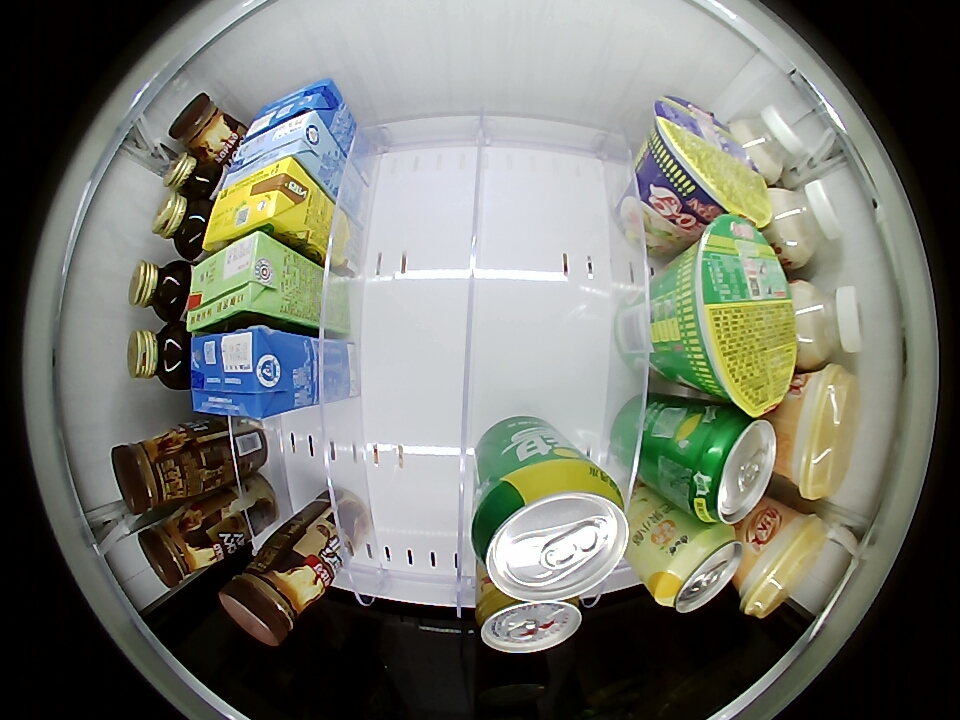heweidao: (646, 95, 771, 226)
heweidao2: (670, 211, 797, 419)
hongniu2: (475, 588, 584, 653)
libaojian: (127, 322, 192, 390), (150, 194, 214, 260), (127, 259, 192, 322), (162, 152, 220, 201)
lujikafei: (219, 541, 325, 647), (112, 427, 195, 515), (137, 508, 222, 589), (168, 93, 238, 160)
mangguoxiaolao: (651, 524, 743, 614)
wanglaoji: (184, 231, 289, 334)
weitanai: (189, 327, 300, 420), (244, 79, 343, 137)
weitanaiditang: (222, 111, 330, 185)
weitaningmeng: (204, 156, 314, 249)
weiweidounai: (764, 179, 843, 268), (791, 279, 865, 368), (731, 106, 805, 182)
xuebi2: (470, 457, 630, 603), (679, 410, 777, 524)
youlemei: (781, 365, 858, 500), (739, 510, 827, 619)
